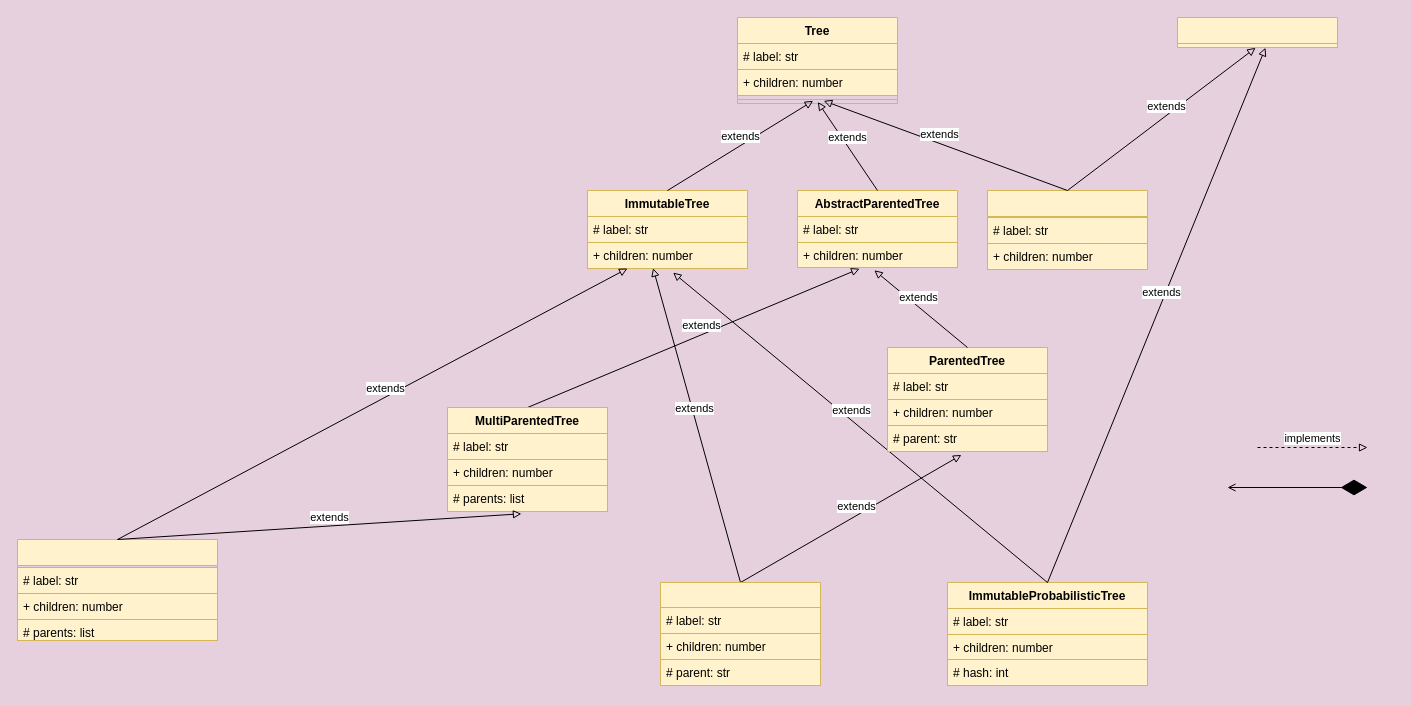
Some shapes in this 1411 by 706 pixel diagram are drawn without their labels. Here are the shapes that lost their labels. From the top down, the centre of each, then its label:
At point (1257, 32): "ProbabilisticMixIn".
At point (1067, 204): "ProbabilisticTree".
At point (117, 556): "ImmutableMultiParentedTree".
At point (740, 599): "ImmutableParentedTree".
